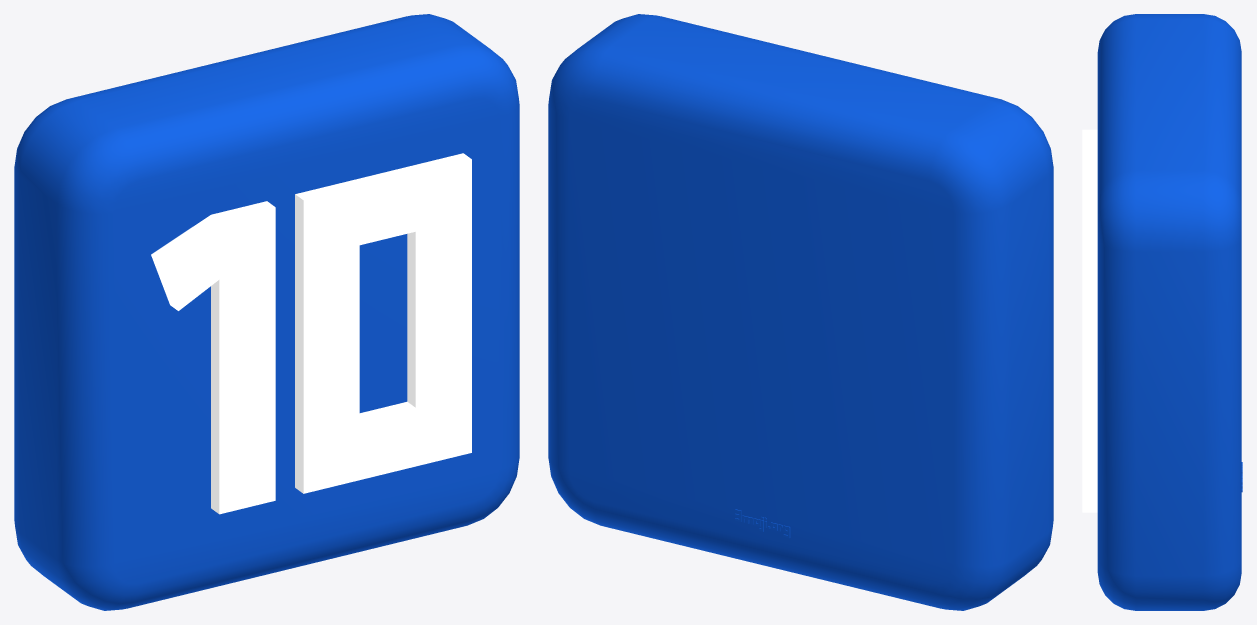
The model's file is keycap_10.glb.
The picture shows the model from 3 angles, left to right: view 1: azimuth 30°, elevation 25°; view 2: azimuth 150°, elevation 25°; view 3: azimuth 270°, elevation 25°; orthographic projection. The views are drawn at different scales.
Visible parts, largest first — view 1: Cube.6588; view 2: Cube.6588; view 3: Cube.6588.
Boxes of the visible parts, x1,y1,x2,y2 form: Cube.6588: (14,14,519,610); Cube.6588: (548,14,1053,610); Cube.6588: (1082,14,1242,610).
Size of the model in its own units: 2.2 by 2.2 by 0.7337.
1 material, 1 textured.
